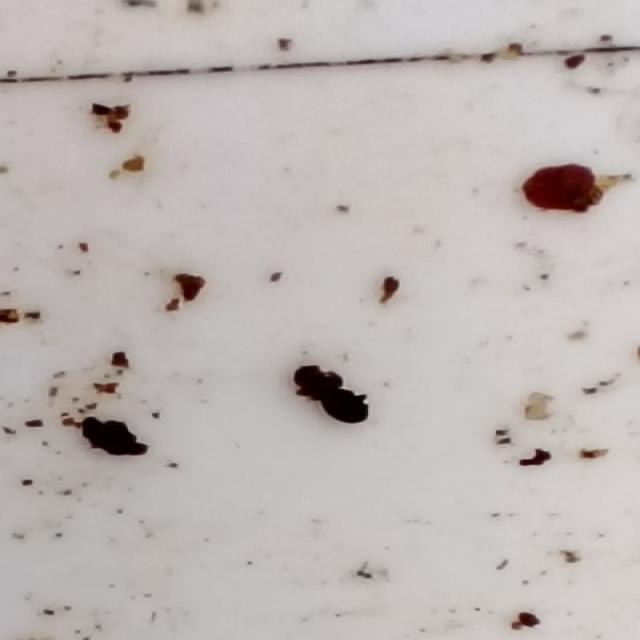varroa: (292, 366, 347, 402), (322, 392, 372, 426)
